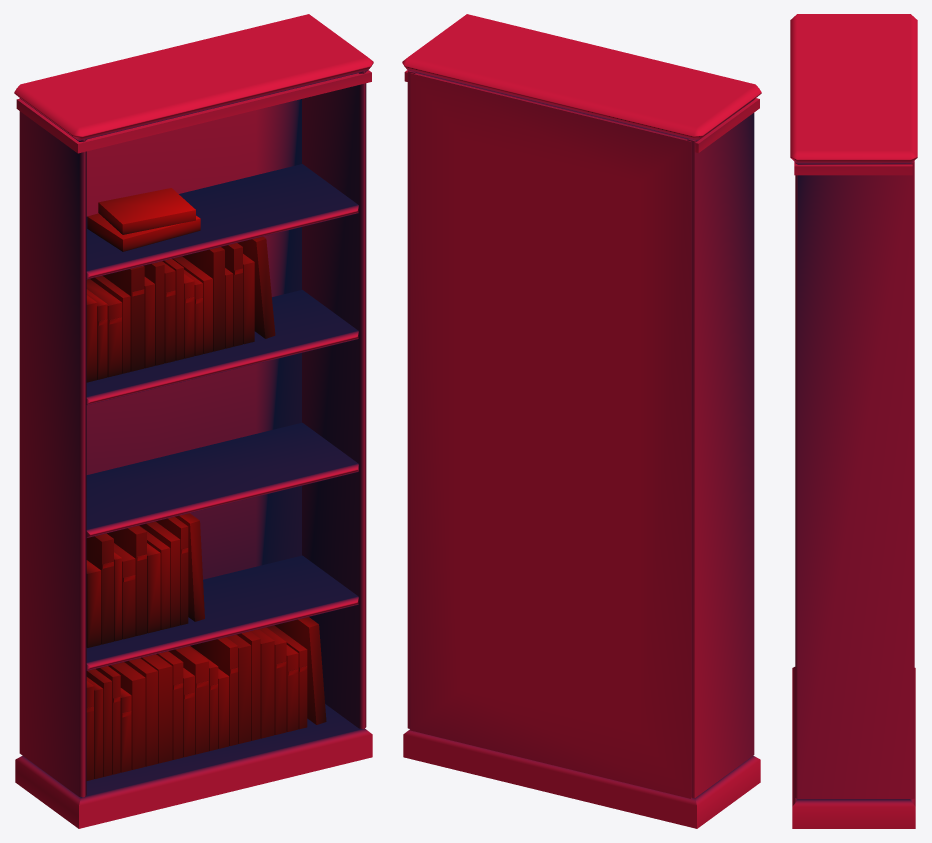
File: CI_Living_Bookcase_Tall_LOD0.glb
3 views of the same model, side by side, from view 1: azimuth 30°, elevation 25°; view 2: azimuth 150°, elevation 25°; view 3: azimuth 270°, elevation 25° (orthographic). The views are drawn at different scales.
Parts seen in each view (by area): view 1: CI_Living_Bookcase_Tall_LOD0; view 2: CI_Living_Bookcase_Tall_LOD0; view 3: CI_Living_Bookcase_Tall_LOD0.
Part boxes in pixels (x1,y1,x2,y2): CI_Living_Bookcase_Tall_LOD0: (14,14,373,828); CI_Living_Bookcase_Tall_LOD0: (402,14,761,828); CI_Living_Bookcase_Tall_LOD0: (790,14,917,828).
Bounding box in the file's own units: 0.9 × 2 × 0.34.
